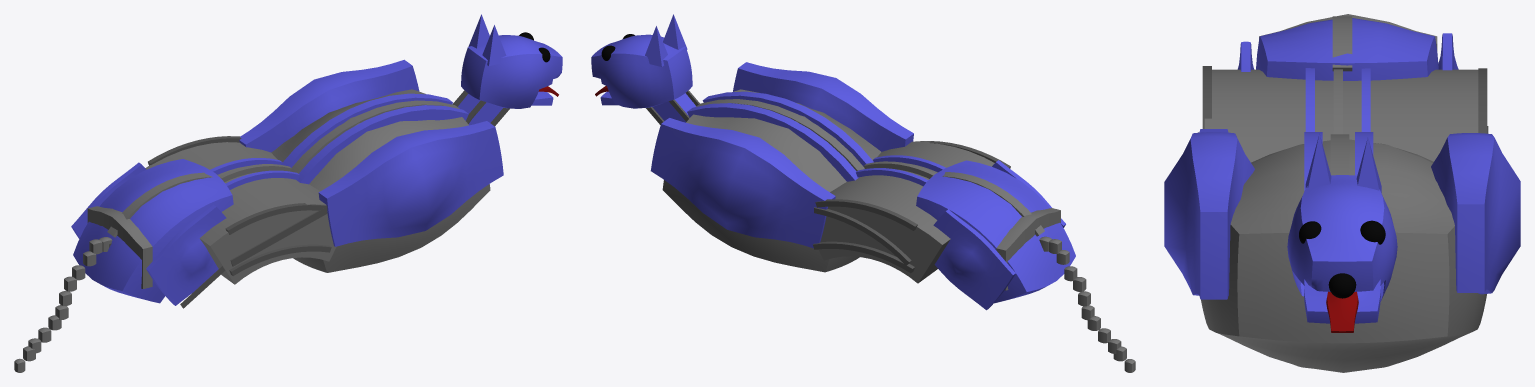
Rendered from body.obj.
3 views of the same model, side by side, from view 1: azimuth 30°, elevation 25°; view 2: azimuth 150°, elevation 25°; view 3: azimuth 270°, elevation 25° (orthographic). The views are drawn at different scales.
Visible parts, largest first — view 1: Box008, Box029, Box002, Box012, Box009, Box005, Box006, Box047, Box010, Box046, Box045, Box051 (+10 smaller); view 2: Box009, Box002, Box029, Box012, Box008, Box005, Box007, Box046, Box047, Box010, Box045, Box036 (+9 smaller); view 3: Box012, Box002, Box008, Box009, Box005, Box029, Box054, Box055, Box051, Box045, Pyramid002, Pyramid001 (+13 smaller).
Part boxes in pixels (<box>): Box008: <box>318,121,503,246</box>; Box029: <box>73,159,233,303</box>; Box002: <box>145,142,336,284</box>; Box012: <box>271,89,490,272</box>; Box009: <box>239,59,419,152</box>; Box005: <box>461,35,562,108</box>; Box006: <box>146,204,226,305</box>; Box047: <box>296,105,468,184</box>; Box010: <box>87,206,152,288</box>; Box046: <box>281,93,452,167</box>; Box045: <box>291,100,459,173</box>; Box051: <box>107,172,220,237</box>; Box009: <box>650,118,835,248</box>; Box002: <box>818,141,994,283</box>; Box029: <box>916,160,1075,303</box>; Box012: <box>662,89,880,272</box>; Box008: <box>733,62,913,151</box>; Box005: <box>591,34,692,108</box>; Box007: <box>933,209,1015,310</box>; Box046: <box>687,103,858,181</box>; Box047: <box>702,91,873,166</box>; Box010: <box>996,208,1060,290</box>; Box045: <box>696,99,864,171</box>; Box036: <box>814,207,911,265</box>; Box012: <box>1201,139,1486,372</box>; Box002: <box>1204,69,1478,162</box>; Box008: <box>1164,129,1254,299</box>; Box009: <box>1431,133,1520,294</box>; Box005: <box>1287,175,1397,301</box>; Box029: <box>1256,18,1438,80</box>; Box054: <box>1304,279,1380,323</box>; Box055: <box>1326,291,1358,332</box>; Box051: <box>1332,16,1352,71</box>; Box045: <box>1330,134,1349,175</box>; Pyramid002: <box>1305,133,1331,188</box>; Pyramid001: <box>1356,137,1381,192</box>.
Size of the model in its own units: 11.01 by 4.64 by 3.88.
